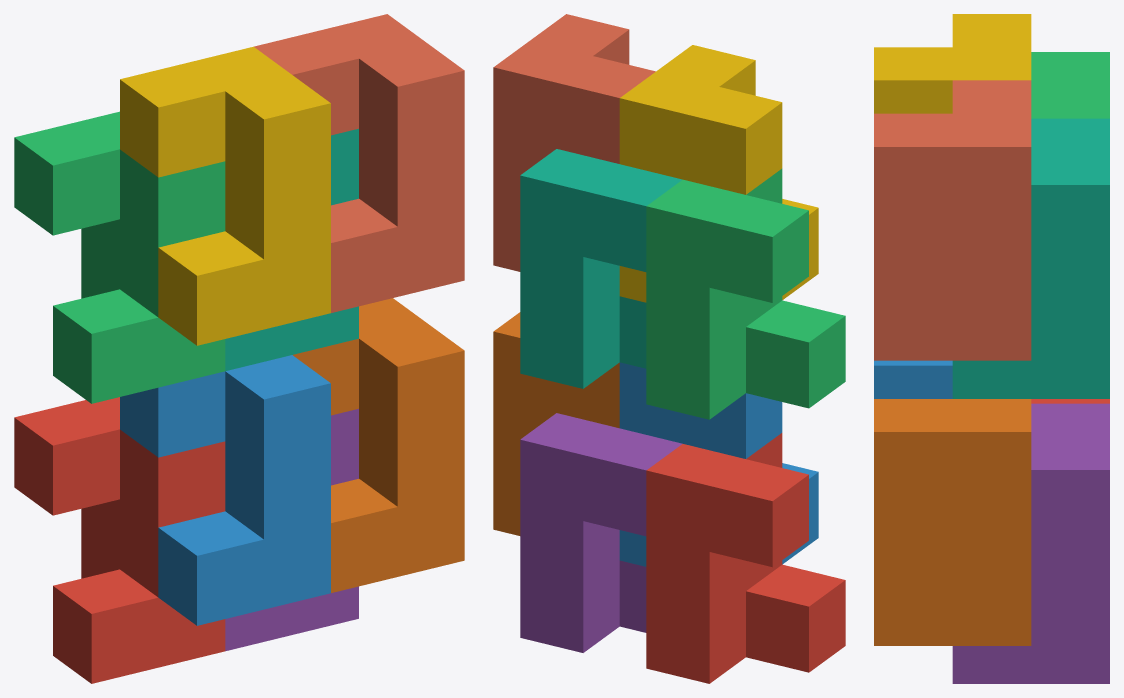
The model's file is tiling.obj.
The picture shows the model from 3 angles, left to right: view 1: azimuth 30°, elevation 25°; view 2: azimuth 150°, elevation 25°; view 3: azimuth 270°, elevation 25°; orthographic projection. The views are drawn at different scales.
Parts seen in each view (by area): view 1: copy_1_domain_4, copy_1_domain_2, copy_1_domain_3, copy_1_domain_8, copy_1_domain_1, copy_1_domain_6, copy_1_domain_5, copy_1_domain_7; view 2: copy_1_domain_3, copy_1_domain_1, copy_1_domain_5, copy_1_domain_7, copy_1_domain_8, copy_1_domain_4, copy_1_domain_6, copy_1_domain_2; view 3: copy_1_domain_8, copy_1_domain_6, copy_1_domain_7, copy_1_domain_5, copy_1_domain_4, copy_1_domain_3, copy_1_domain_2, copy_1_domain_1.
Part boxes in pixels (x1,y1,x2,y2): copy_1_domain_4: [120, 46, 330, 345]; copy_1_domain_2: [120, 355, 330, 625]; copy_1_domain_3: [14, 111, 225, 403]; copy_1_domain_8: [254, 14, 464, 312]; copy_1_domain_1: [14, 397, 225, 683]; copy_1_domain_6: [293, 298, 464, 592]; copy_1_domain_5: [225, 408, 358, 651]; copy_1_domain_7: [225, 128, 358, 371]; copy_1_domain_3: [646, 168, 845, 419]; copy_1_domain_1: [646, 433, 845, 683]; copy_1_domain_5: [520, 413, 682, 652]; copy_1_domain_7: [520, 149, 682, 388]; copy_1_domain_8: [493, 14, 655, 271]; copy_1_domain_4: [619, 45, 818, 302]; copy_1_domain_6: [493, 312, 619, 535]; copy_1_domain_2: [619, 362, 818, 566]; copy_1_domain_8: [874, 80, 1031, 360]; copy_1_domain_6: [874, 399, 1031, 645]; copy_1_domain_7: [952, 118, 1109, 398]; copy_1_domain_5: [952, 403, 1109, 683]; copy_1_domain_4: [874, 14, 1031, 113]; copy_1_domain_3: [1031, 52, 1109, 118]; copy_1_domain_2: [874, 360, 952, 398]; copy_1_domain_1: [1031, 399, 1109, 403].
Bounding box in the file's own units: 5 × 8 × 3.
